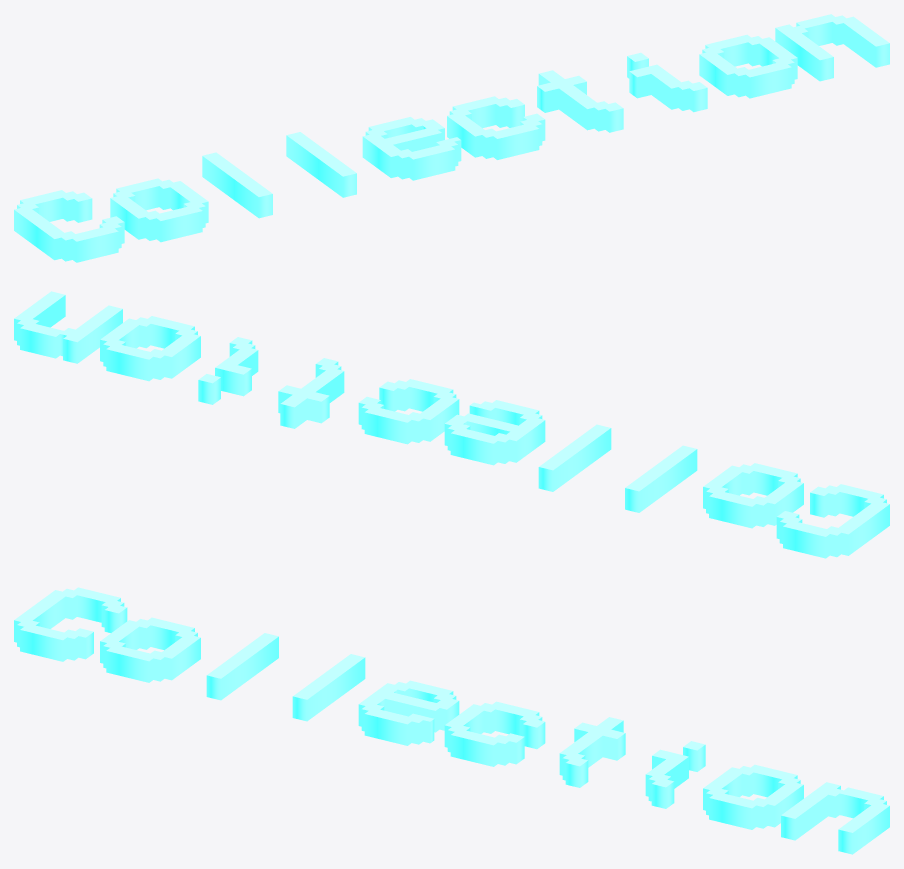
The model's file is collection.glb.
3 views of the same model, one above another, from view 1: azimuth 30°, elevation 25°; view 2: azimuth 150°, elevation 25°; view 3: azimuth 330°, elevation 25° (orthographic). The views are drawn at different scales.
Parts seen in each view (by area): view 1: cards; view 2: cards; view 3: cards.
Boxes of the visible parts, box(x1,y1,x2,y2) form: cards: box(14, 14, 889, 262); cards: box(14, 291, 889, 558); cards: box(14, 587, 889, 854).
Size of the model in its own units: 6.56 by 0.16 by 0.7778.
